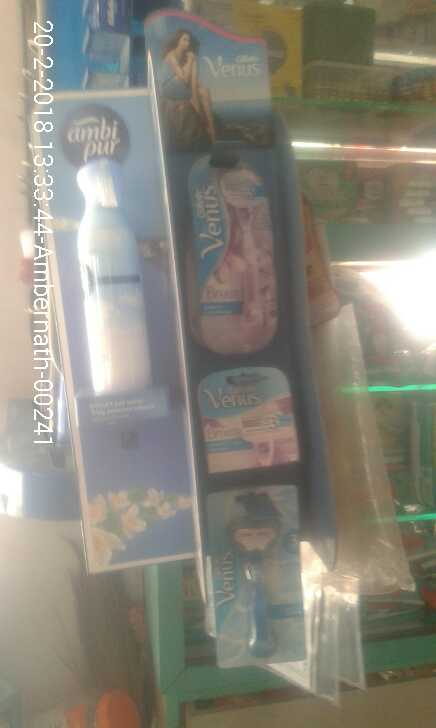beauty: (183, 160, 291, 357), (203, 485, 307, 654), (192, 370, 306, 474)
home: (64, 155, 166, 396)
